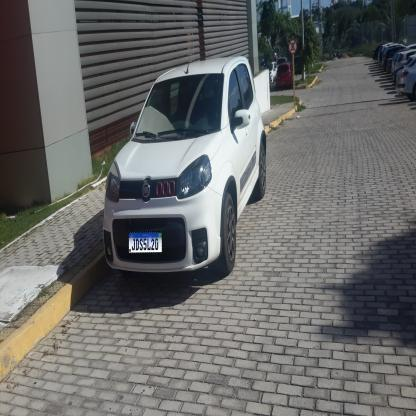PlacaM: (128, 231, 163, 254)
